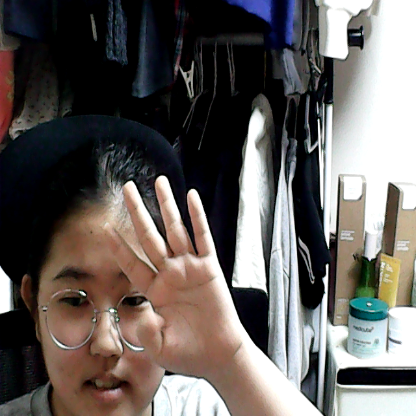Finger_4: (94, 166, 257, 393)
